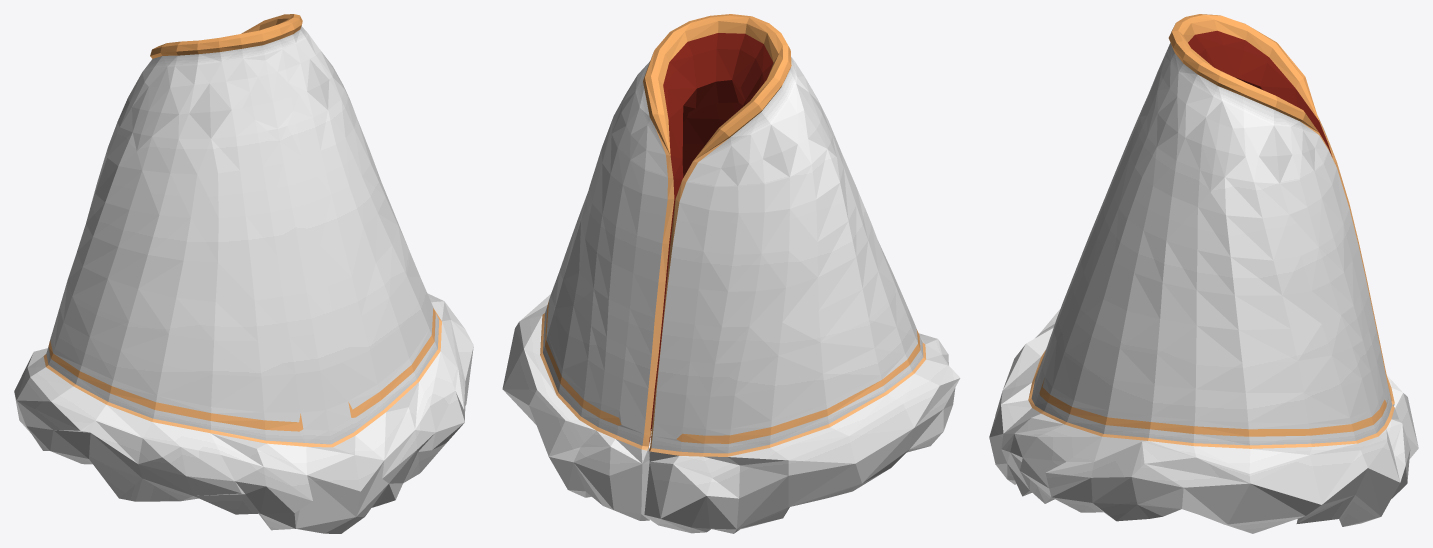
Rendered from CharSkyKid_Wing_WinterElder_01.glb.
3 renders of one model, left to right at view 1: azimuth 30°, elevation 25°; view 2: azimuth 150°, elevation 25°; view 3: azimuth 270°, elevation 25°, orthographic. The views are drawn at different scales.
Visible parts, largest first — view 1: CharSkyKid_Wing_WinterElder_01; view 2: CharSkyKid_Wing_WinterElder_01; view 3: CharSkyKid_Wing_WinterElder_01.
Part boxes in pixels (left/top/right/bottom): CharSkyKid_Wing_WinterElder_01: left=14, top=14, right=473, bottom=533; CharSkyKid_Wing_WinterElder_01: left=502, top=14, right=960, bottom=533; CharSkyKid_Wing_WinterElder_01: left=989, top=14, right=1418, bottom=533.
Size of the model in its own units: 7.24 by 7.59 by 6.42.
Materials: 1 (1 with a texture image).
